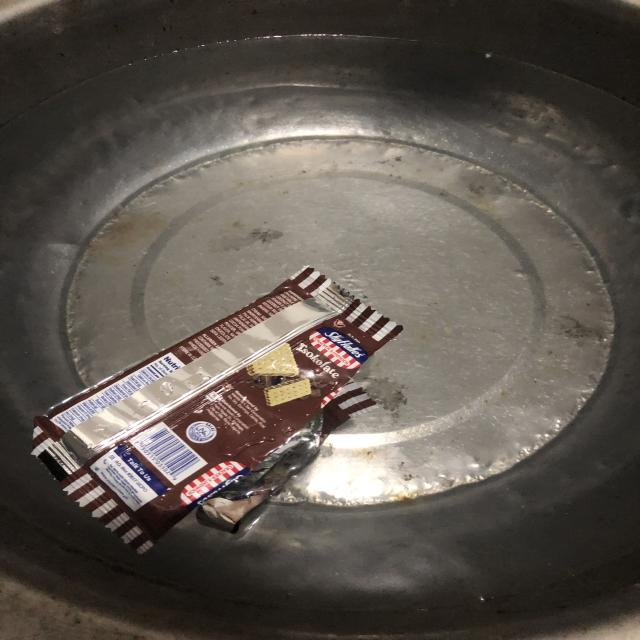Plastic Wrapper: (13, 265, 402, 556)
